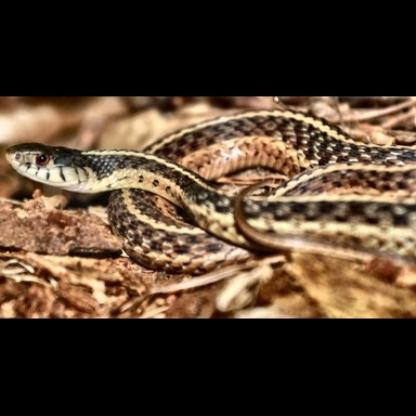Snake: (4, 118, 415, 295)
